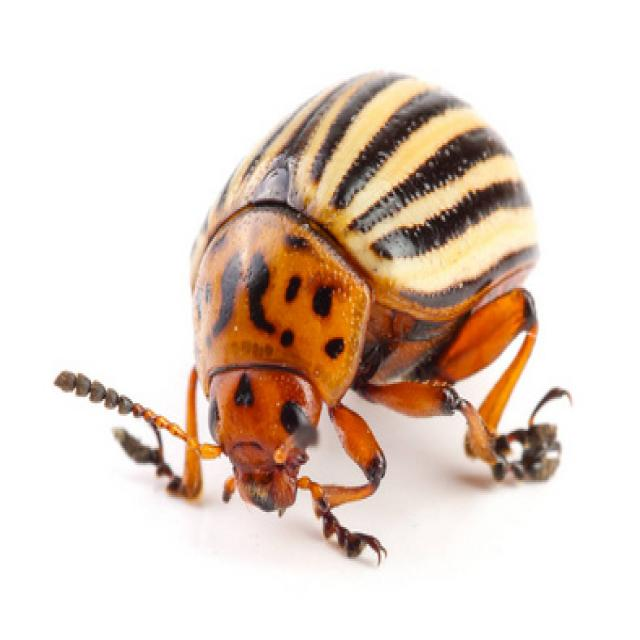ShuCaiHuaBanChong-Grown-: (148, 48, 608, 578)
